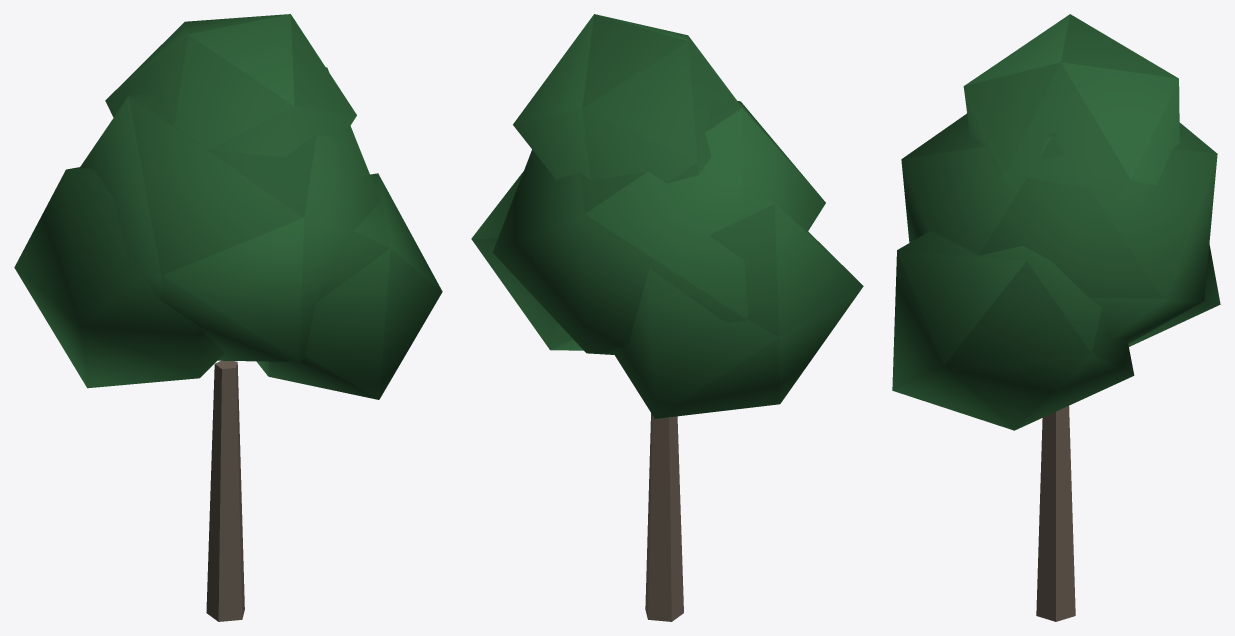
File: ZB_bitki_ufuk_agaci.glb
The picture shows the model from 3 angles, left to right: view 1: azimuth 30°, elevation 25°; view 2: azimuth 150°, elevation 25°; view 3: azimuth 270°, elevation 25°; orthographic projection.
Visible parts, largest first — view 1: ZB_bitki_ufuk_agaci; view 2: ZB_bitki_ufuk_agaci; view 3: ZB_bitki_ufuk_agaci.
Boxes of the visible parts, box(x1,y1,x2,y2) form: ZB_bitki_ufuk_agaci: box(14, 14, 442, 621); ZB_bitki_ufuk_agaci: box(471, 14, 863, 621); ZB_bitki_ufuk_agaci: box(892, 14, 1220, 621).
Size of the model in its own units: 5.81 by 9.33 by 4.76.
